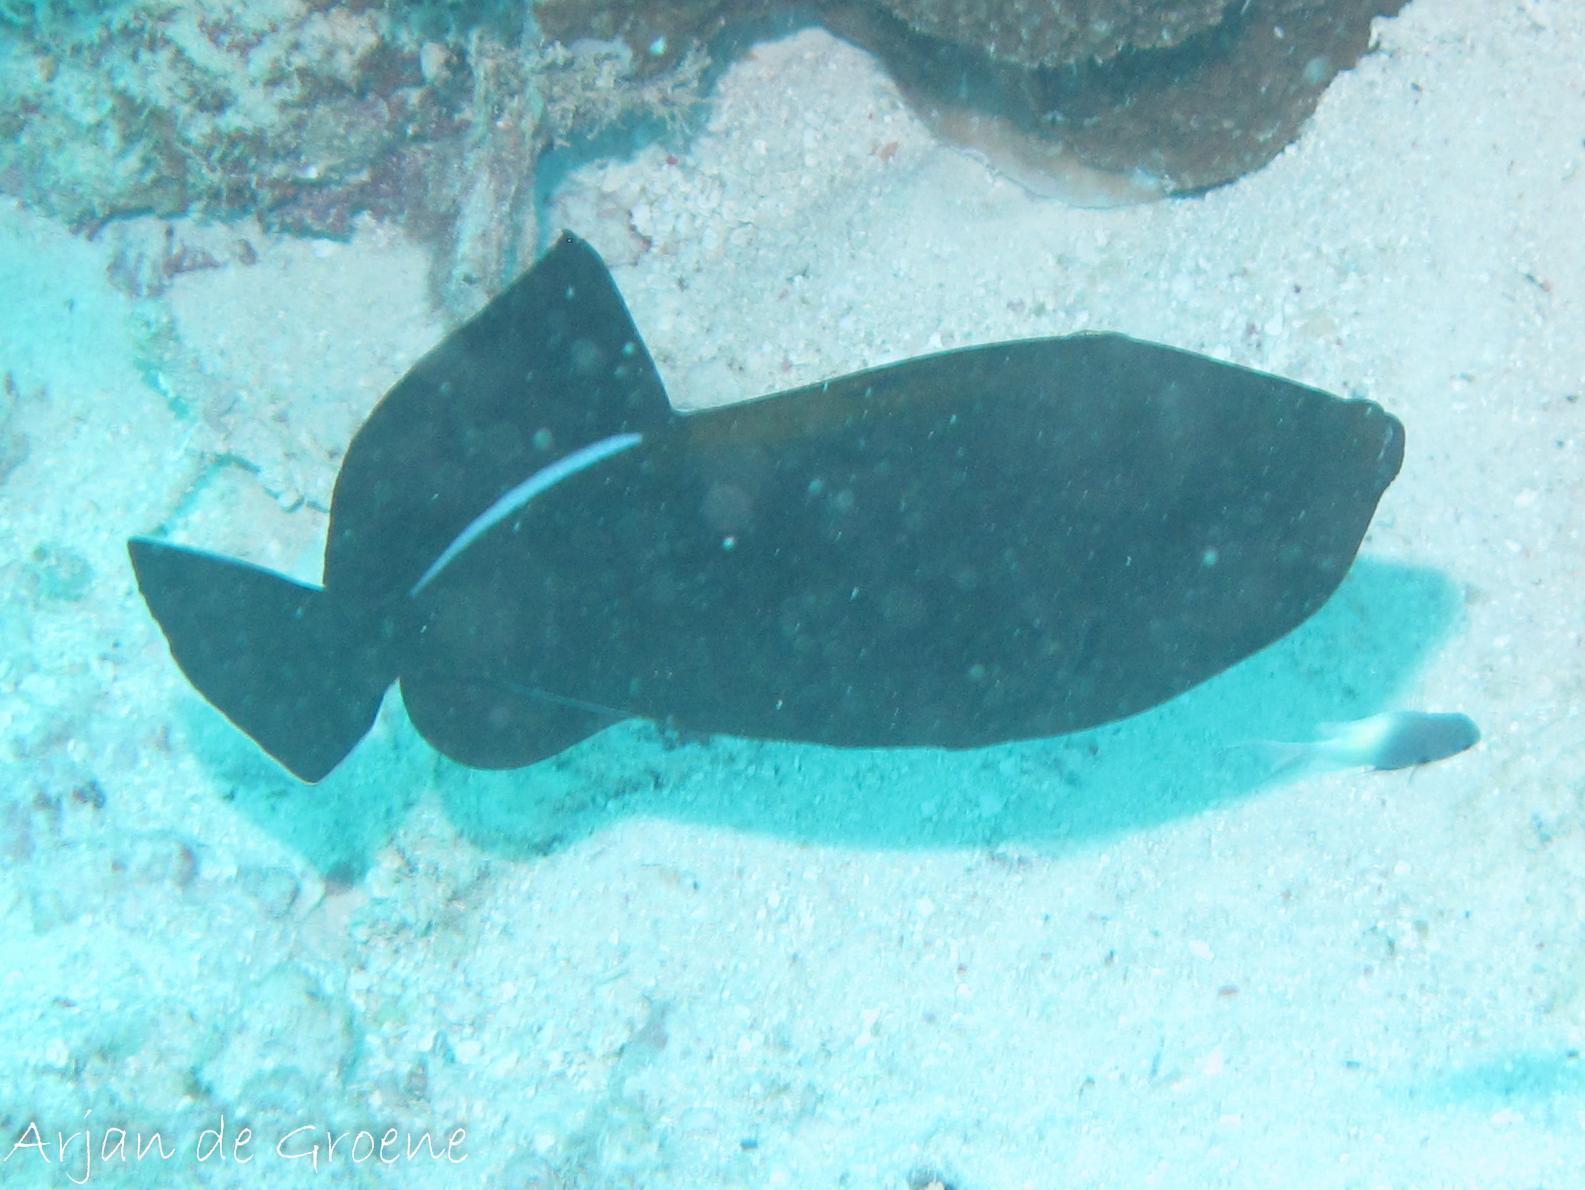Fish: (105, 187, 1456, 849)
